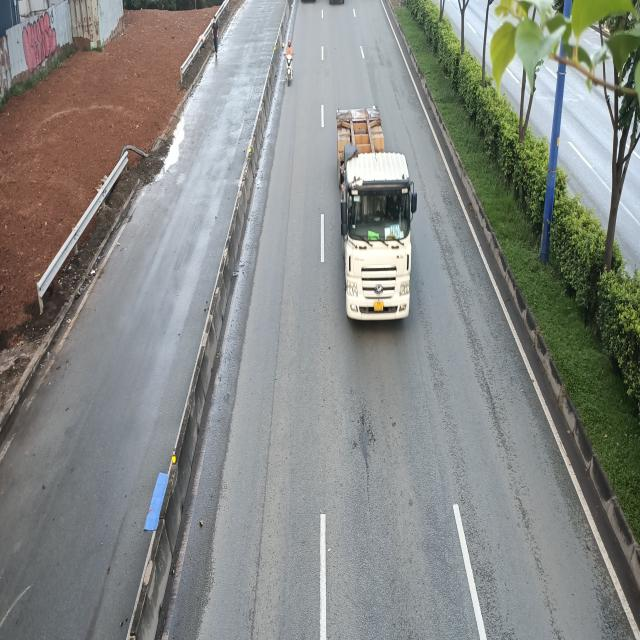container: (336, 108, 417, 325)
